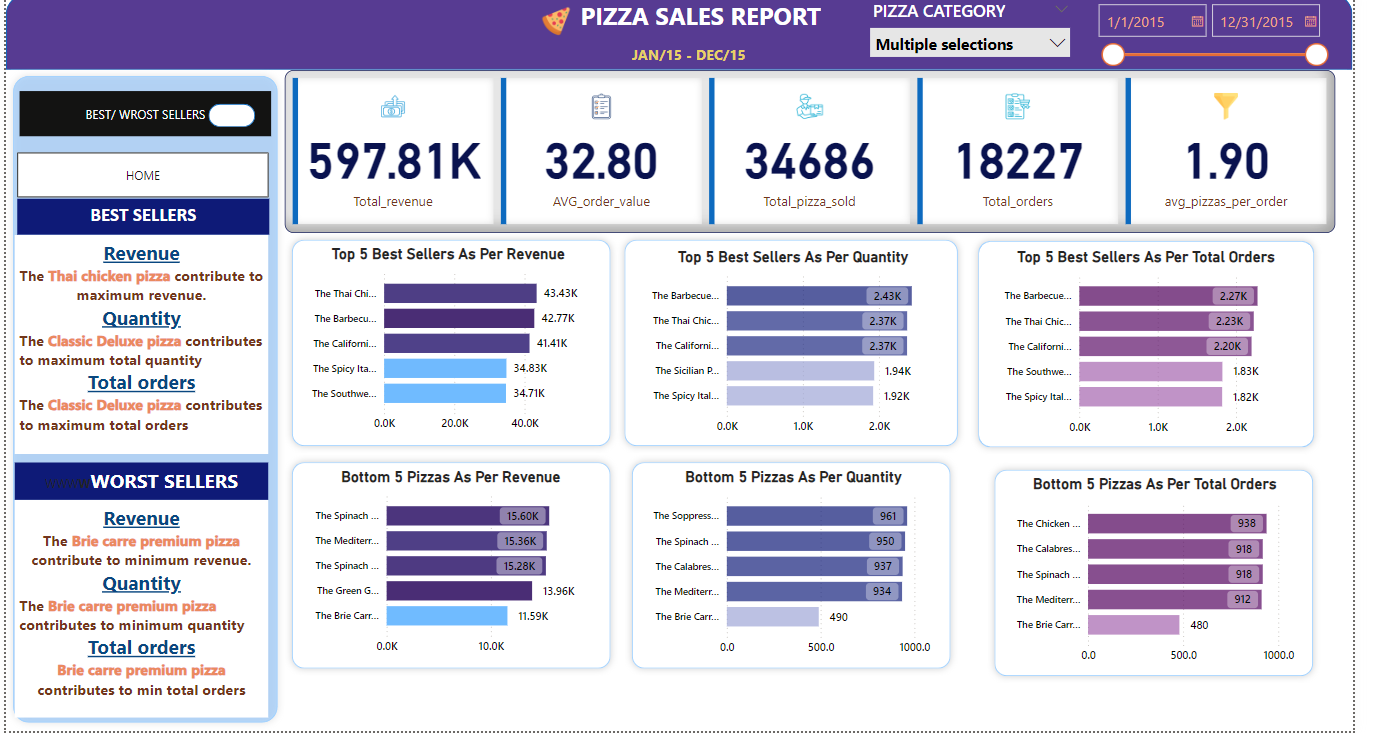

What the dashboard file says about the page in this screenshot:
{"tool":"powerbi","page":{"name":"BEST/ WROST SELLERS","canvas":[1500,820],"ordinal":1},"visuals":[{"type":"cardVisual","fields":{"Data":["pizza_sales.Total_revenue","pizza_sales.AVG_order_value","pizza_sales.Total_pizza_sold","pizza_sales.Total_orders","pizza_sales.avg_pizzas_per_order"]},"box":[310,83.3,1170,181.7],"z":0},{"type":"shape","box":[0,0,1500,83.3],"z":1000},{"type":"textbox","box":[634.7,0,297.2,50],"z":2000},{"type":"textbox","box":[691.7,50,145.8,33.3],"z":3000},{"type":"image","box":[563.9,8.3,97.2,41.7],"z":4000},{"type":"shape","box":[0,82.4,310.5,736.5],"z":5000},{"type":"shape","box":[310.5,265.2,371,245.9],"z":6000},{"type":"shape","box":[681.5,265.2,387.5,245.9],"z":7000},{"type":"shape","box":[1074.5,266.6,390.2,245.9],"z":8000},{"type":"textbox","box":[12.1,227,280.7,39.8],"z":9000},{"type":"textbox","box":[10.4,266.8,282.4,244.3],"z":10000},{"type":"textbox","box":[10.4,521.5,282.4,41.6],"z":11000},{"type":"textbox","box":[10.4,563.1,282.4,242.6],"z":12000},{"type":"slicer","fields":{"Values":["pizza_sales.pizza_category"]},"box":[952.2,0,243.2,82.4],"z":13000},{"type":"slicer","fields":{"Values":["pizza_sales.order_date"]},"box":[1205,0,276.2,82.4],"z":14000},{"type":"shape","box":[310.5,512.5,371,245.9],"z":15000},{"type":"shape","box":[689.7,512.5,371,245.9],"z":16000},{"type":"shape","box":[1093.7,520.7,371,245.9],"z":17000},{"type":"clusteredBarChart","title":"Top 5 Best Sellers As Per Revenue","fields":{"Category":["pizza_sales.pizza_name"],"Y":["pizza_sales.Total_revenue"]},"box":[324.3,278.9,336.6,217.1],"z":18000},{"type":"clusteredBarChart","title":"Bottom 5 Pizzas As Per Revenue","fields":{"Category":["pizza_sales.pizza_name"],"Y":["pizza_sales.Total_revenue"]},"box":[327,526.2,336.6,217.1],"z":19000},{"type":"clusteredBarChart","title":"Top 5 Best Sellers As Per Quantity","fields":{"Category":["pizza_sales.pizza_name"],"Y":["pizza_sales.Total_pizza_sold"]},"box":[702.7,281.4,347.3,217.1],"z":20000},{"type":"clusteredBarChart","title":"Bottom 5 Pizzas As Per Quantity","fields":{"Category":["pizza_sales.pizza_name"],"Y":["pizza_sales.Total_pizza_sold"]},"box":[703.4,526.7,348.2,218.3],"z":20001},{"type":"clusteredBarChart","title":"Top 5 Best Sellers As Per Total Orders","fields":{"Category":["pizza_sales.pizza_name"],"Y":["pizza_sales.Total_orders"]},"box":[1096.7,280.7,348.2,218.3],"z":20002},{"type":"clusteredBarChart","title":"Bottom 5 Pizzas As Per Total Orders","fields":{"Category":["pizza_sales.pizza_name"],"Y":["pizza_sales.Total_orders"]},"box":[1105.6,535.4,348.2,219.1],"z":20003},{"type":"pageNavigator","box":[15.6,107.4,280.7,50.2],"z":20004},{"type":"pageNavigator","box":[12.1,175,280.7,50.2],"z":20005},{"type":"shape","box":[225.2,121.3,52,26],"z":20006}]}

Visuals, with their boxes in screenshot pixels (x1, y1, x2, y2), scaled from the page's 1500x820 canvas onto the 1379x733 screenshot:
cardVisual - pizza_sales.Total_revenue x pizza_sales.AVG_order_value: 285,74,1361,237
shape: 0,0,1378,74
textbox: 584,0,857,45
textbox: 636,45,770,74
image: 518,7,608,45
shape: 0,74,285,732
shape: 285,237,627,457
shape: 627,237,983,457
shape: 988,238,1347,458
textbox: 11,203,269,238
textbox: 10,238,269,457
textbox: 10,466,269,503
textbox: 10,503,269,720
slicer - pizza_sales.pizza_category: 875,0,1099,74
slicer - pizza_sales.order_date: 1108,0,1362,74
shape: 285,458,627,678
shape: 634,458,975,678
shape: 1005,465,1347,685
"Top 5 Best Sellers As Per Revenue" clusteredBarChart: 298,249,608,443
"Bottom 5 Pizzas As Per Revenue" clusteredBarChart: 301,470,610,664
"Top 5 Best Sellers As Per Quantity" clusteredBarChart: 646,252,965,446
"Bottom 5 Pizzas As Per Quantity" clusteredBarChart: 647,471,967,666
"Top 5 Best Sellers As Per Total Orders" clusteredBarChart: 1008,251,1328,446
"Bottom 5 Pizzas As Per Total Orders" clusteredBarChart: 1016,479,1337,674
pageNavigator: 14,96,272,141
pageNavigator: 11,156,269,201
shape: 207,108,255,132
